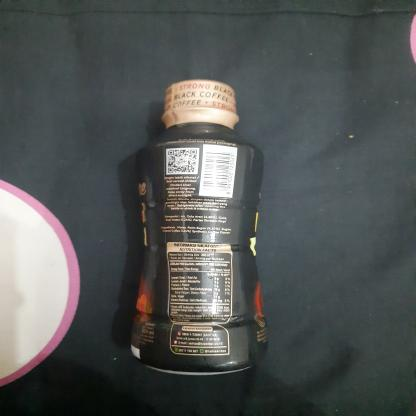plastic: (117, 76, 273, 378)
